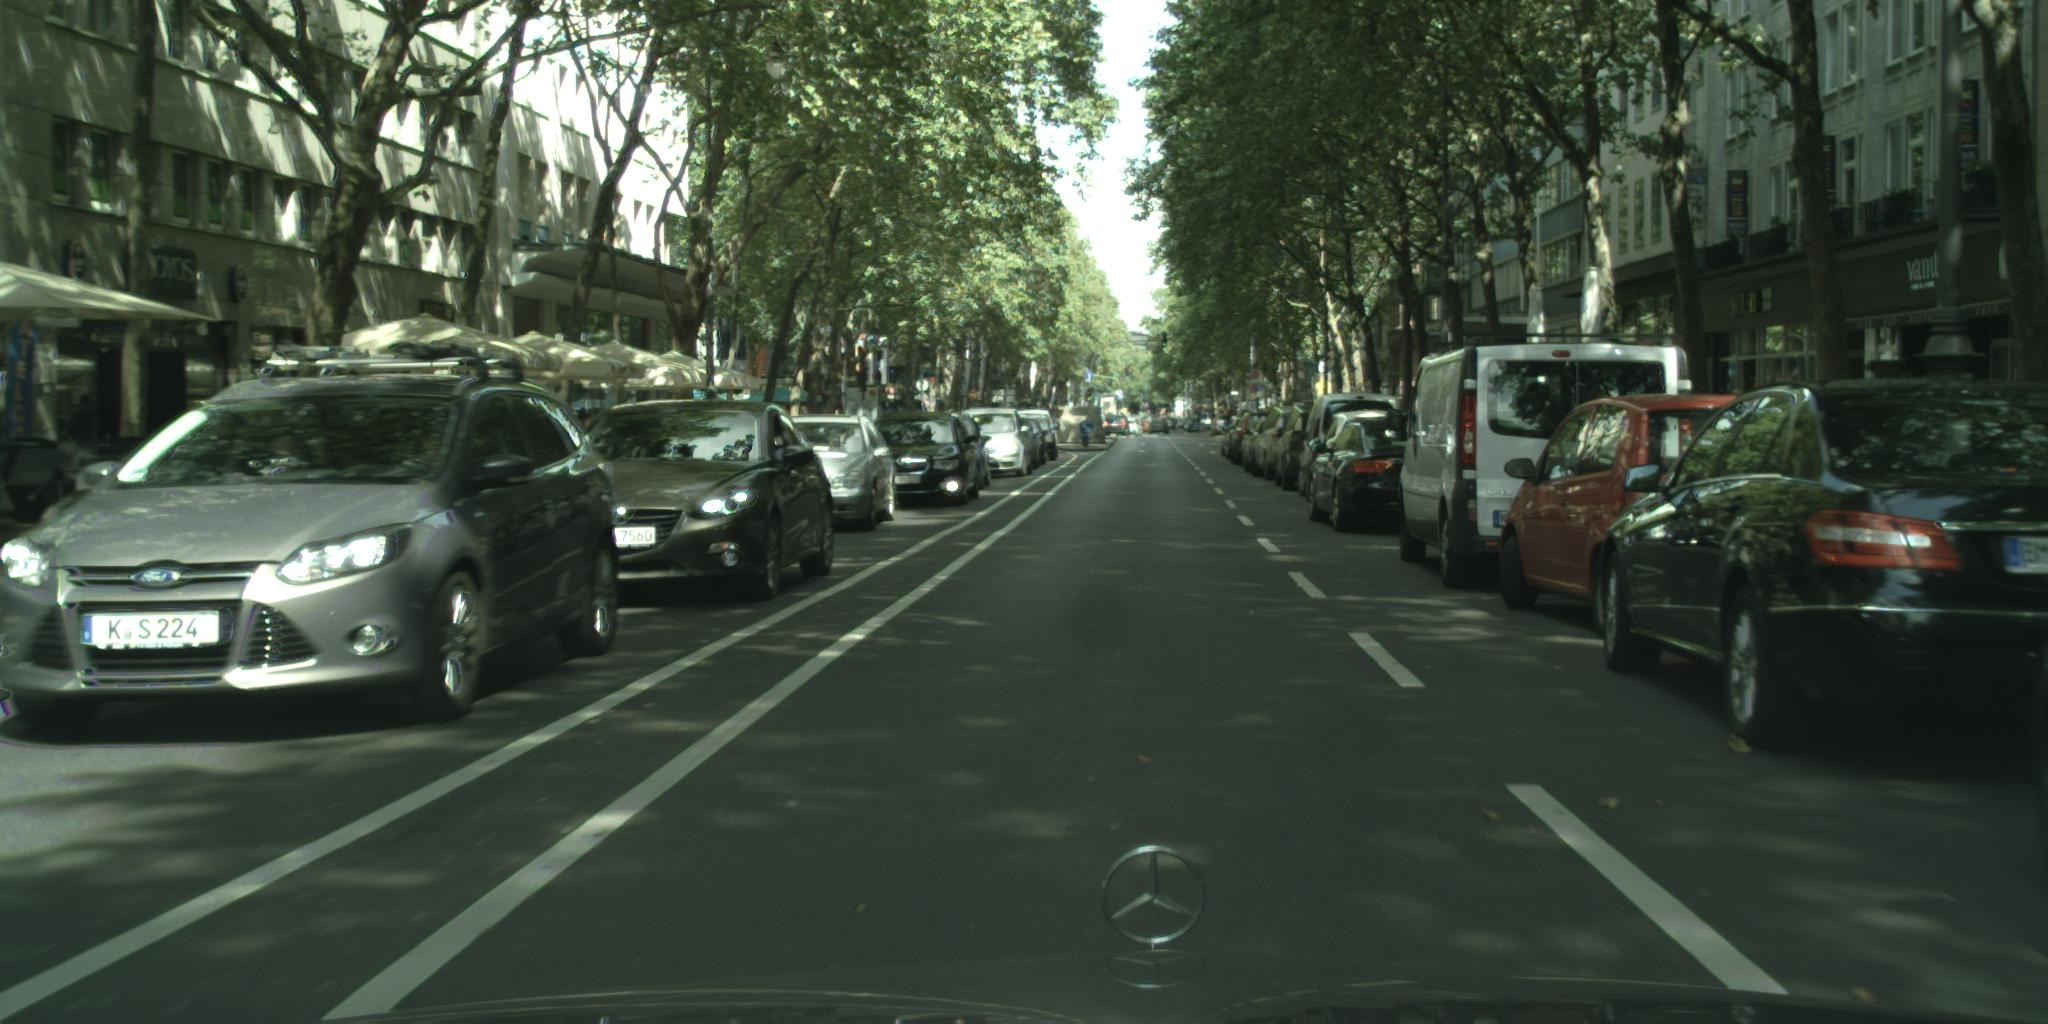car: (1, 364, 628, 737), (1599, 377, 2045, 751), (1381, 330, 1704, 590), (1497, 394, 1772, 639), (568, 398, 839, 609), (1302, 409, 1420, 532), (784, 413, 899, 534), (1294, 393, 1408, 498), (1275, 402, 1319, 492), (1253, 406, 1297, 482), (1241, 413, 1273, 477), (1219, 415, 1260, 465), (1102, 415, 1132, 438), (1145, 418, 1176, 438)
